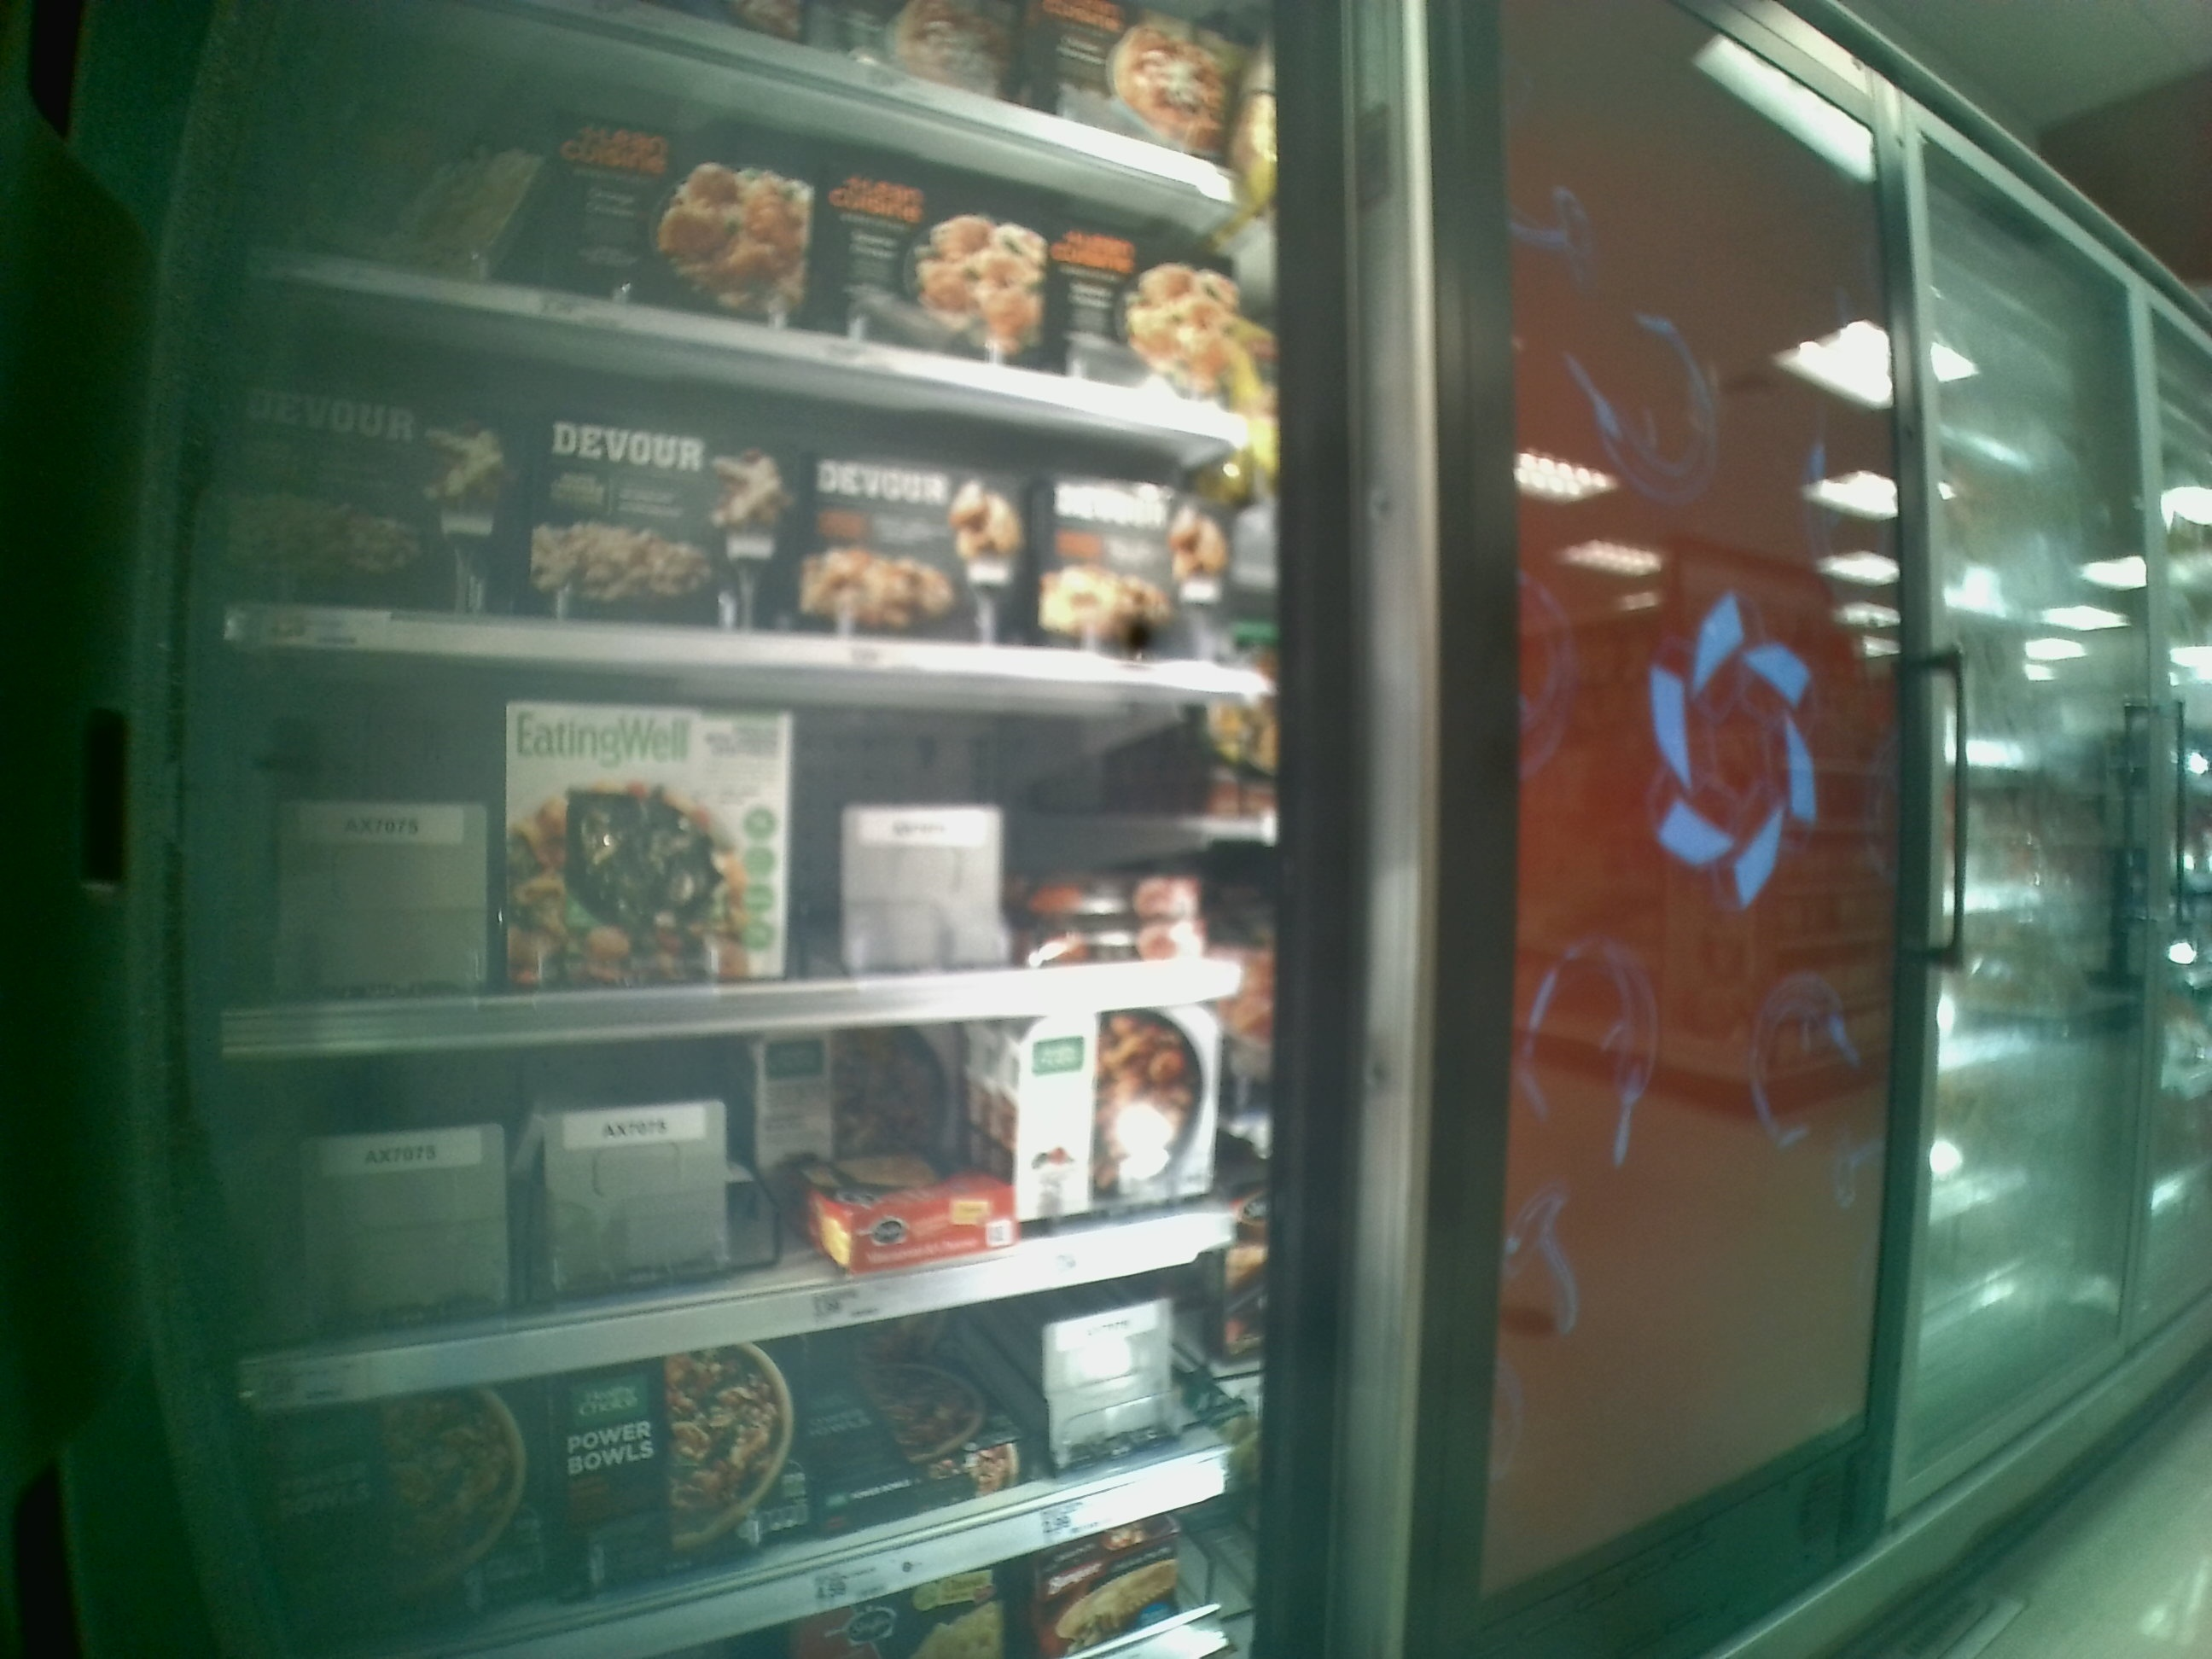shelf: (206, 638, 1305, 1047)
